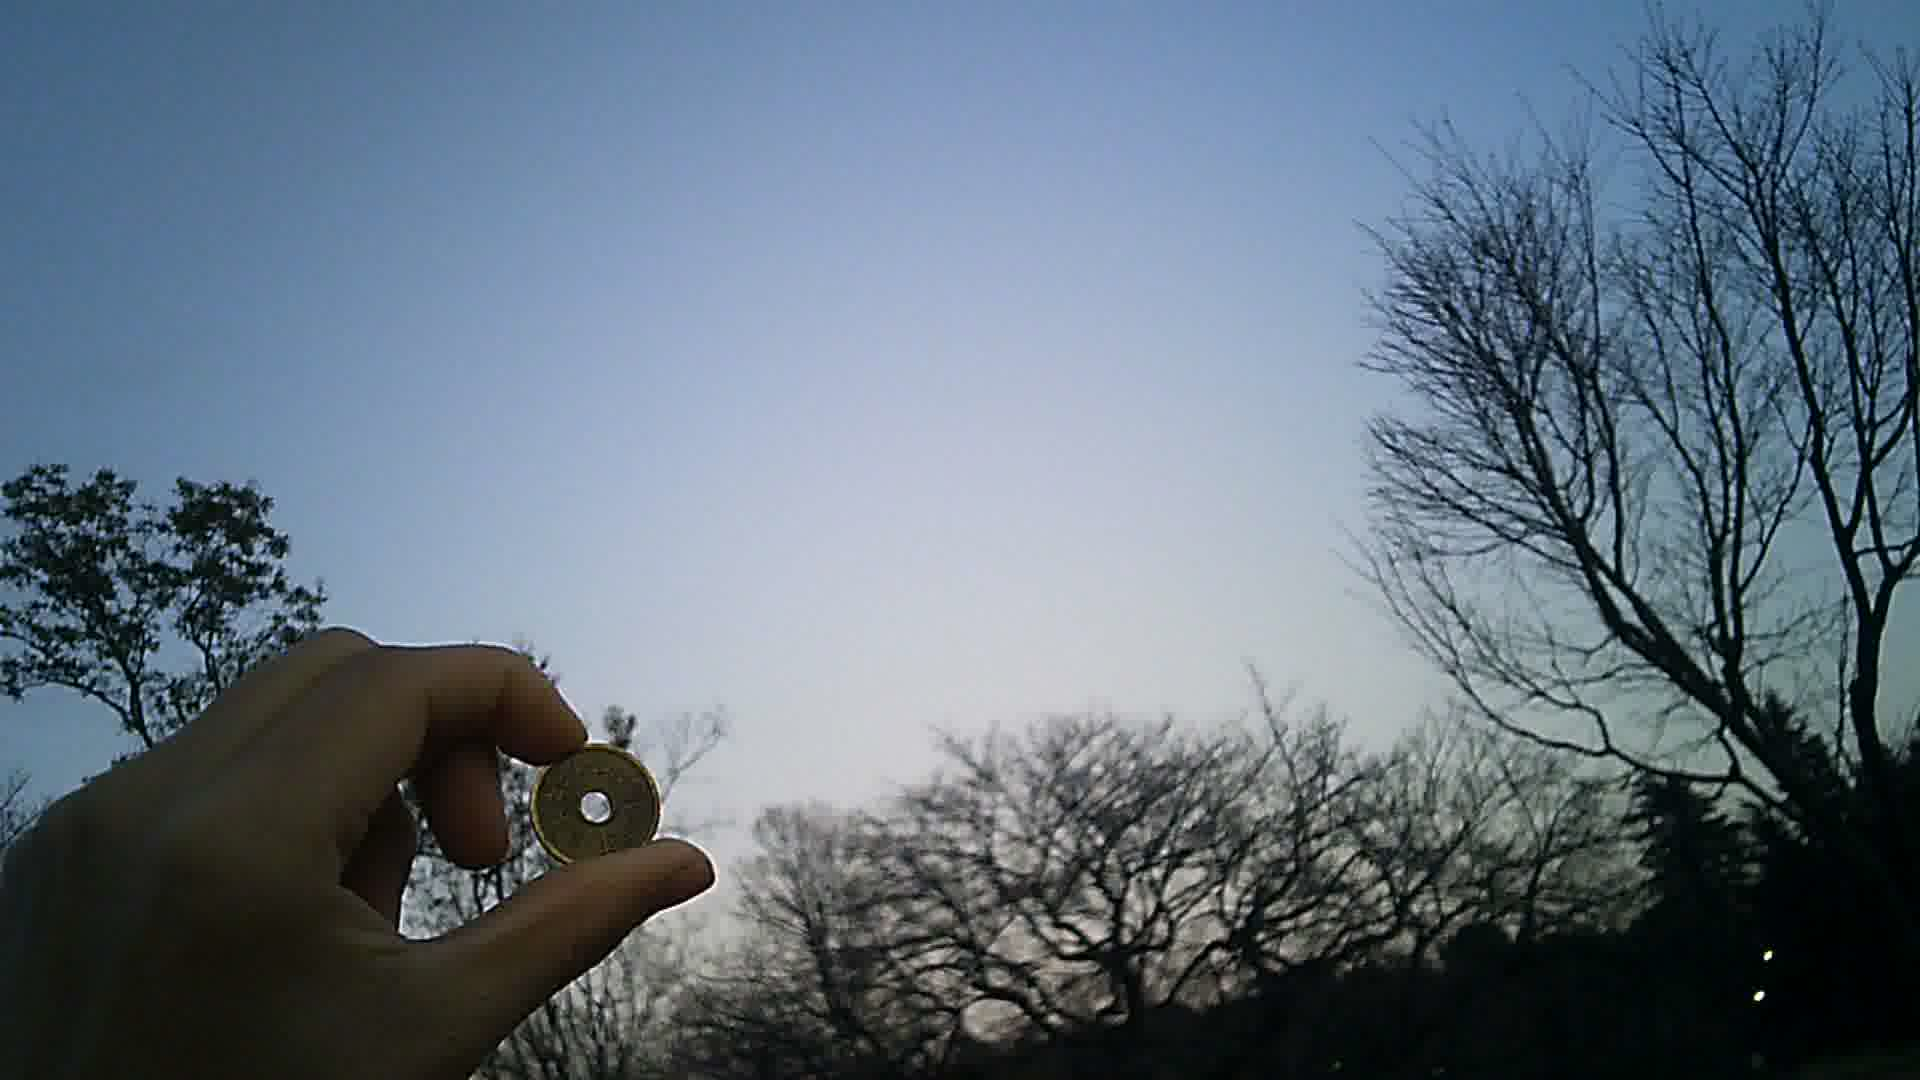5 Yen: (531, 746, 670, 865)
